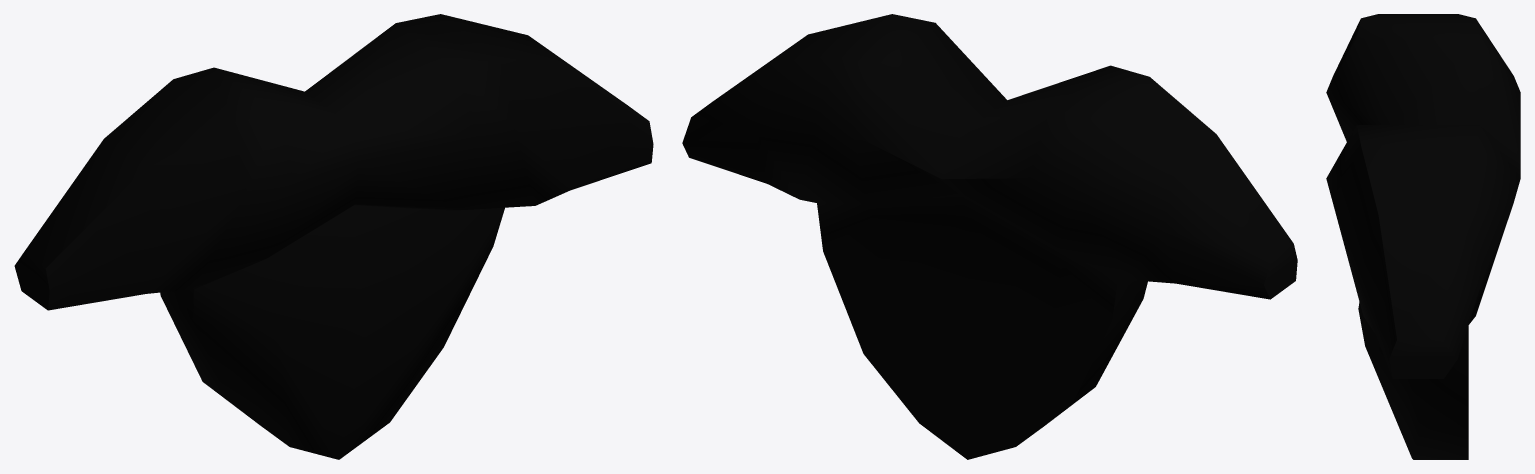
The model's file is beard_black.fbx.
3 renders of one model, left to right at view 1: azimuth 30°, elevation 25°; view 2: azimuth 150°, elevation 25°; view 3: azimuth 270°, elevation 25°, orthographic. The views are drawn at different scales.
Parts seen in each view (by area): view 1: beard_black; view 2: beard_black; view 3: beard_black.
Part boxes in pixels (x1,y1,x2,y2): beard_black: (14,14,653,459); beard_black: (682,14,1297,459); beard_black: (1326,14,1520,459).
Bounding box in the file's own units: 42.76 × 26.38 × 12.29.
Materials: 1 (1 with a texture image).
